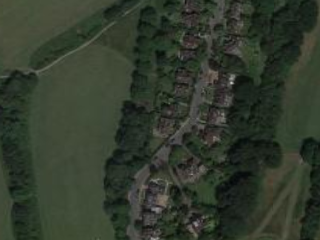Tree: (220, 180, 268, 212), (115, 126, 149, 153), (116, 98, 150, 125), (246, 103, 274, 131), (257, 59, 285, 87), (270, 25, 298, 53), (280, 2, 308, 30), (101, 161, 129, 189), (100, 193, 128, 221), (99, 212, 127, 240), (262, 144, 287, 165), (128, 72, 151, 91), (130, 50, 153, 69), (130, 31, 153, 50), (134, 11, 157, 30)
